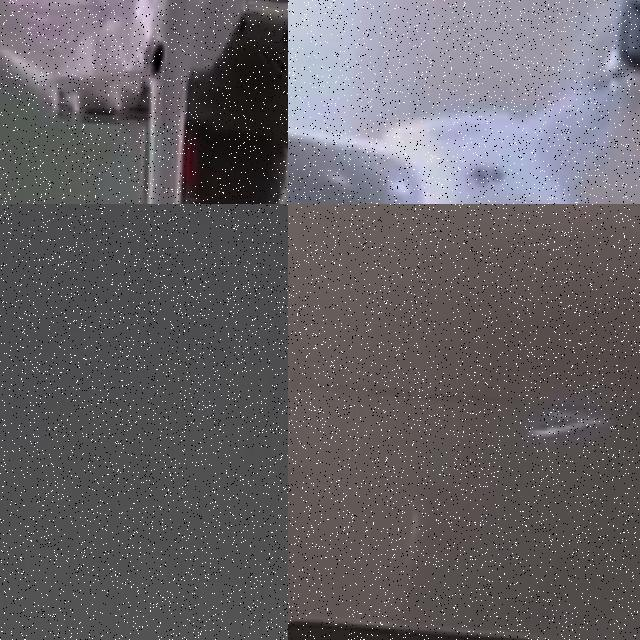drone: (288, 204, 640, 640), (288, 0, 640, 204), (0, 0, 288, 204)
